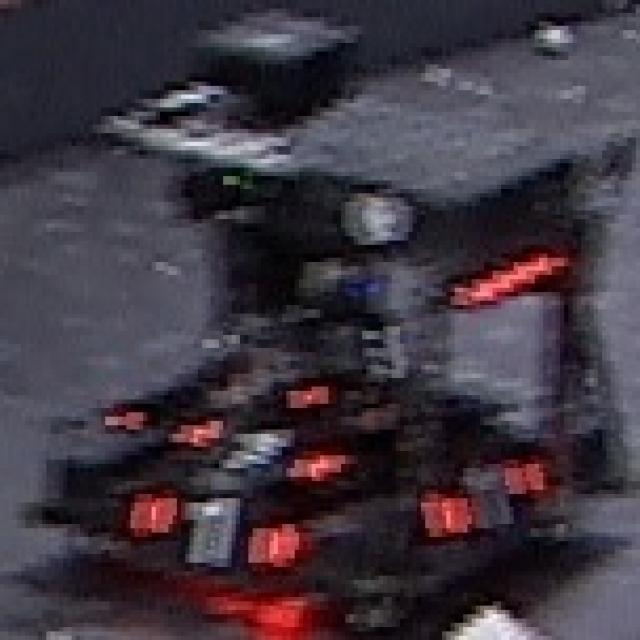R1: (127, 494, 290, 576), (412, 460, 556, 546), (160, 416, 341, 476)
